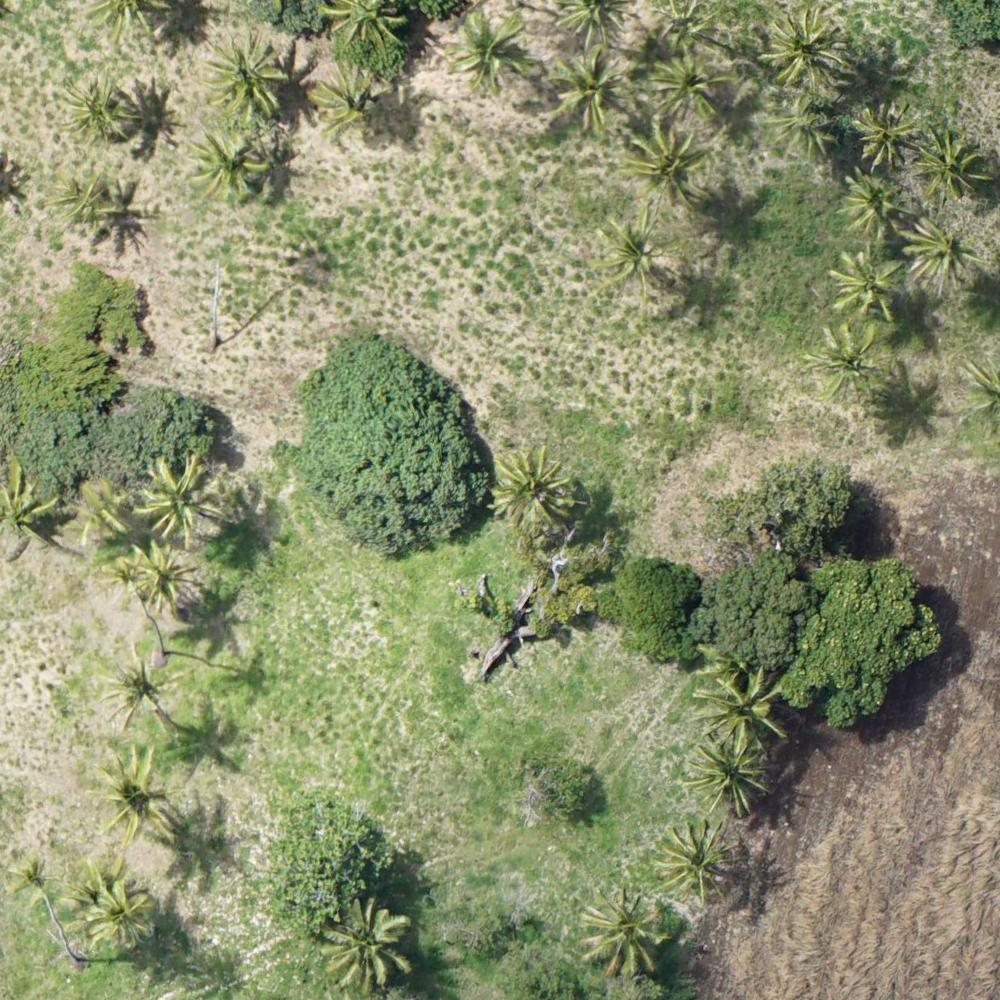Palm: (85, 746, 178, 844), (574, 889, 670, 976), (135, 456, 228, 544), (321, 900, 412, 985), (697, 661, 793, 741), (492, 446, 583, 530), (205, 35, 293, 116), (683, 732, 769, 814), (445, 9, 533, 88), (767, 5, 855, 83), (628, 118, 705, 205), (97, 645, 179, 725), (662, 817, 739, 900), (552, 48, 631, 126), (915, 123, 992, 200), (598, 213, 675, 289), (309, 64, 391, 135), (185, 134, 266, 205), (830, 247, 904, 323), (906, 216, 979, 285), (838, 171, 911, 239), (642, 55, 725, 114), (807, 328, 881, 394), (61, 74, 136, 138), (133, 543, 198, 611), (86, 884, 158, 944), (851, 106, 920, 168), (652, 1, 717, 59), (49, 171, 113, 226), (8, 849, 64, 907)
